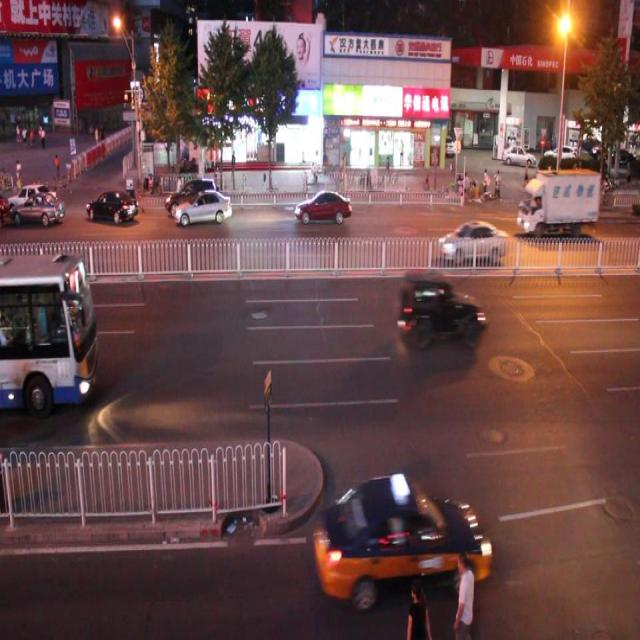bus: (517, 169, 598, 229)
car: (313, 472, 490, 606), (398, 269, 483, 346), (436, 220, 506, 264), (164, 174, 220, 220), (175, 188, 232, 226), (294, 188, 351, 226), (10, 191, 68, 227), (86, 188, 138, 226), (1, 180, 57, 212)
van: (1, 252, 100, 408)
